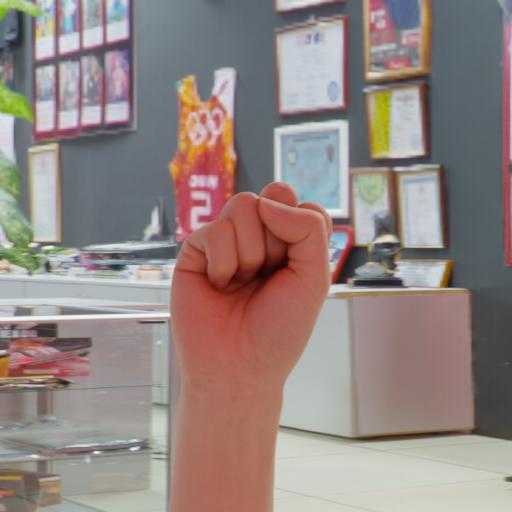S: (139, 158, 343, 386)
